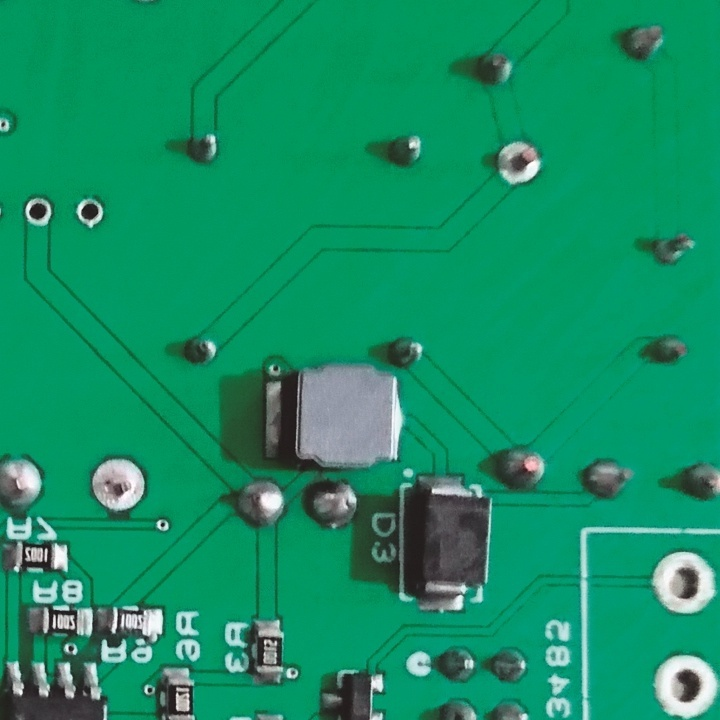F: (647, 650, 720, 720), (651, 546, 720, 617), (90, 455, 148, 518), (494, 141, 550, 187), (71, 193, 107, 233), (20, 196, 57, 230)
